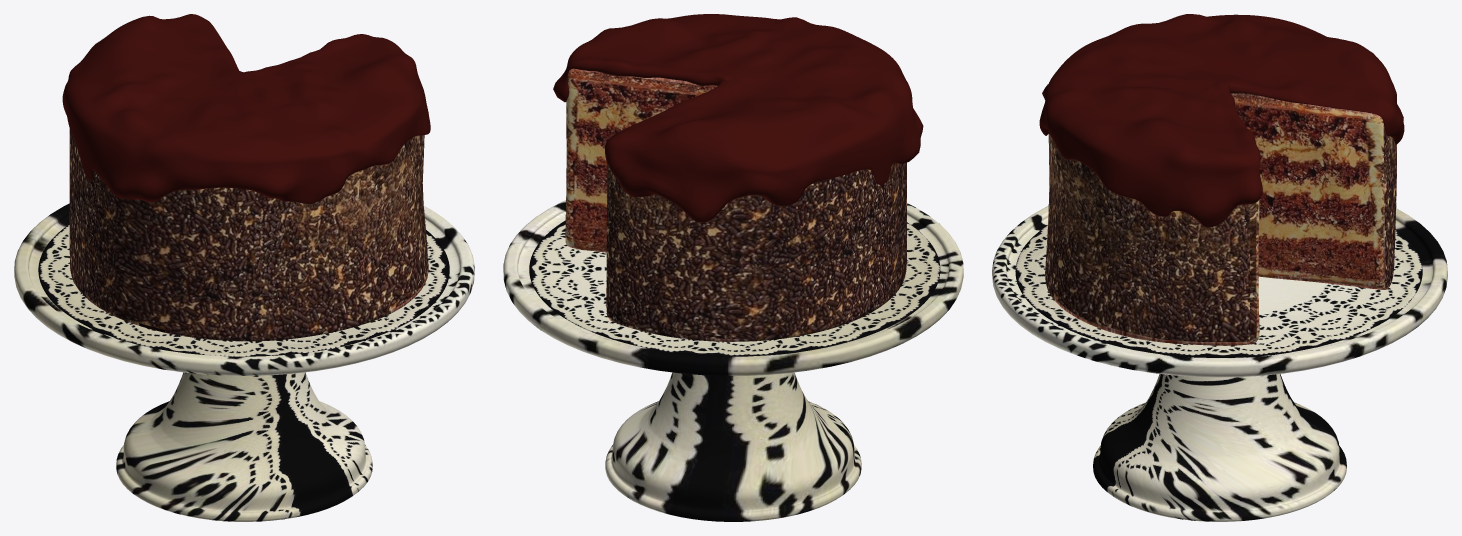
The model's file is cake.dae.
3 renders of one model, left to right at view 1: azimuth 30°, elevation 25°; view 2: azimuth 150°, elevation 25°; view 3: azimuth 270°, elevation 25°, orthographic.
Parts seen in each view (by area): view 1: Cylinder001, Cylinder003, Line001, Circle001; view 2: Cylinder001, Cylinder003, Line001, Circle001; view 3: Cylinder001, Cylinder003, Line001, Circle001.
Boxes of the visible parts, x1,y1,x2,y2 form: Cylinder001: [69, 129, 428, 341]; Cylinder003: [62, 14, 430, 204]; Line001: [14, 203, 474, 521]; Circle001: [38, 224, 449, 356]; Cylinder001: [565, 68, 906, 341]; Cylinder003: [553, 14, 923, 222]; Line001: [503, 200, 963, 521]; Circle001: [529, 220, 940, 356]; Cylinder001: [1045, 92, 1396, 345]; Cylinder003: [1039, 14, 1404, 227]; Line001: [992, 206, 1447, 521]; Circle001: [1015, 225, 1422, 357].
Size of the model in its own units: 292 by 286 by 292.
3 materials, 2 textured.
